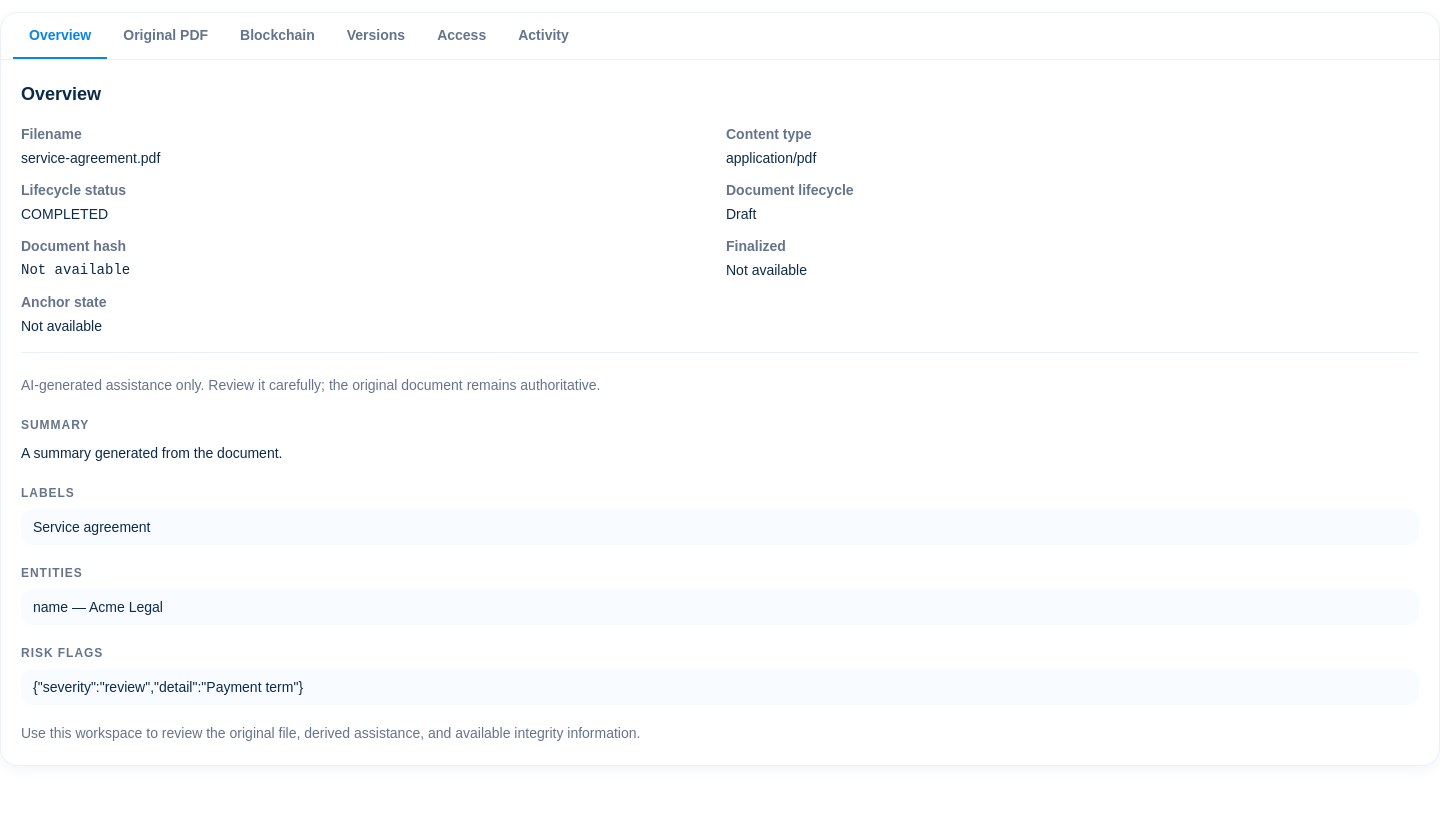
Test: DocumentWorkspace › keeps original files and derived insights in separate tabs
Check: the tab "Overview" is shown, box x1=13 y1=13 x2=107 y2=59
Check: the text "original document remains authoritative" is shown, box x1=21 y1=377 x2=600 y2=393
Click the tab "Original PDF". click: (166, 36)
box: x1=107 y1=13 x2=224 y2=59
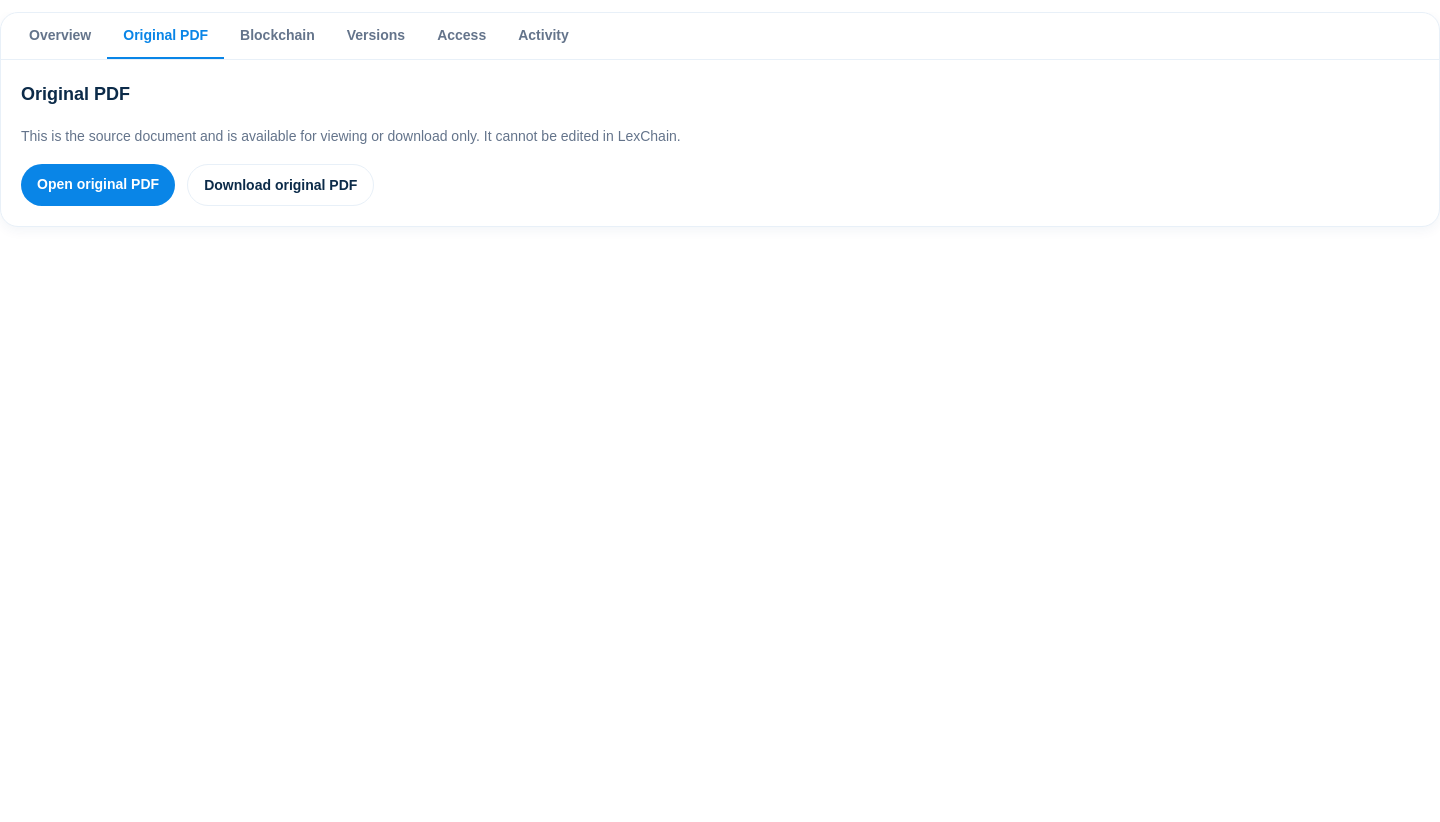
Click the tab "Blockchain". click: (277, 36)
box: x1=224 y1=13 x2=331 y2=59
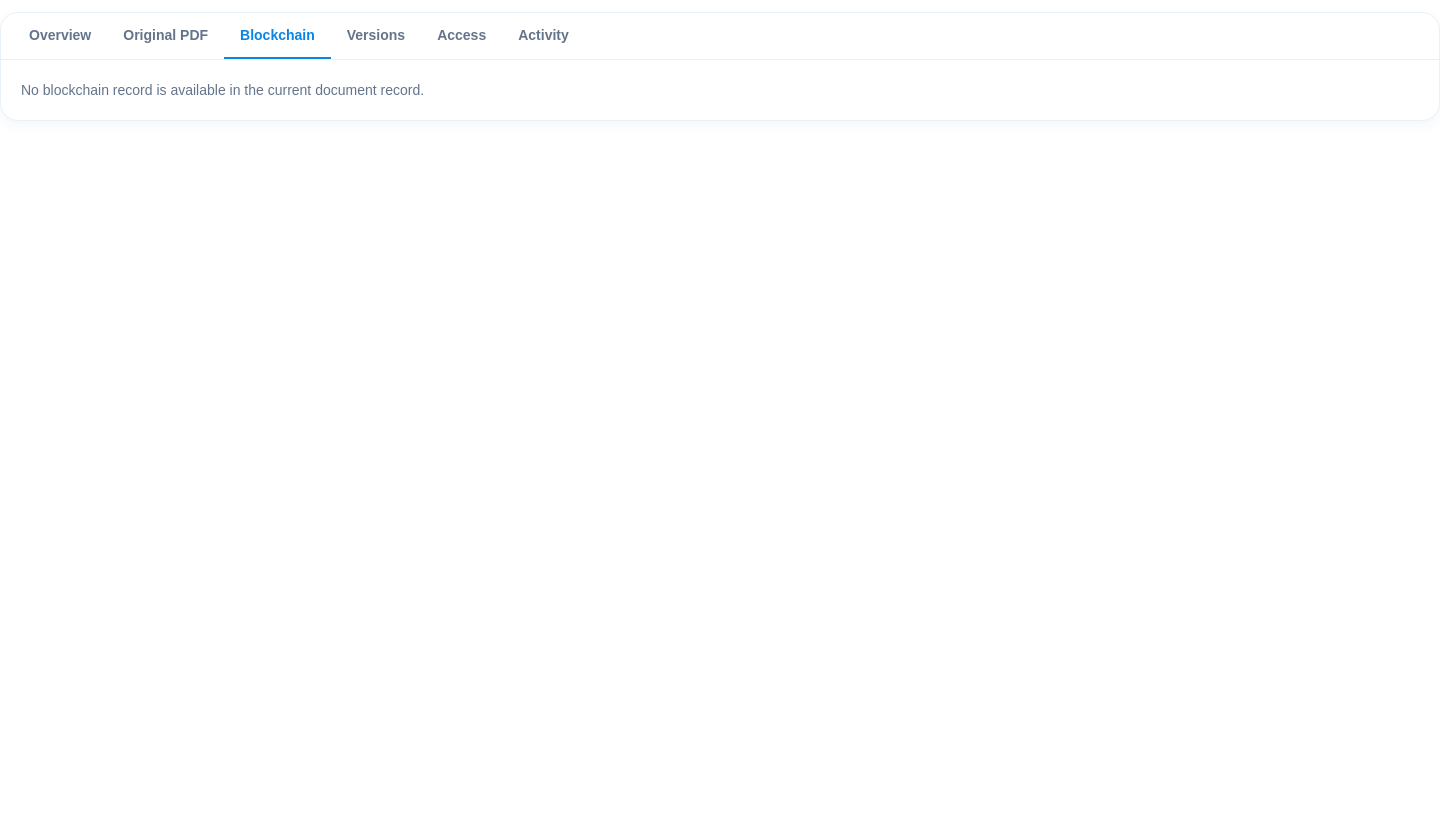
Check: the text "No blockchain record is available" is shown, box x1=21 y1=82 x2=424 y2=98
